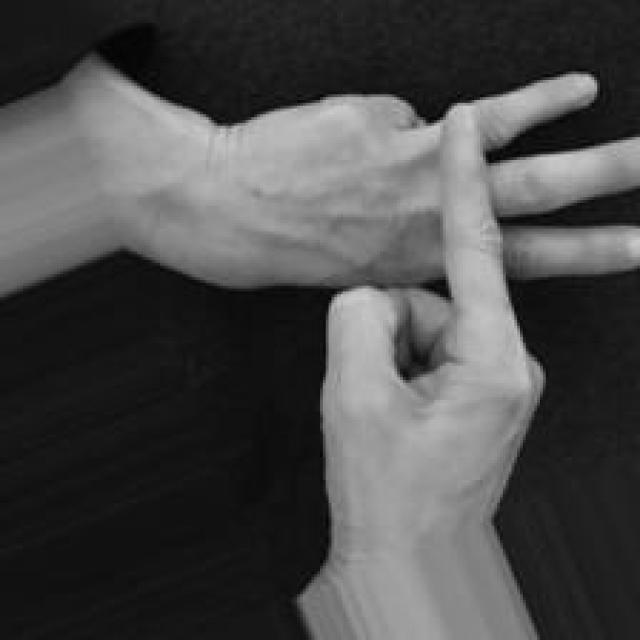E: (228, 64, 640, 517)
